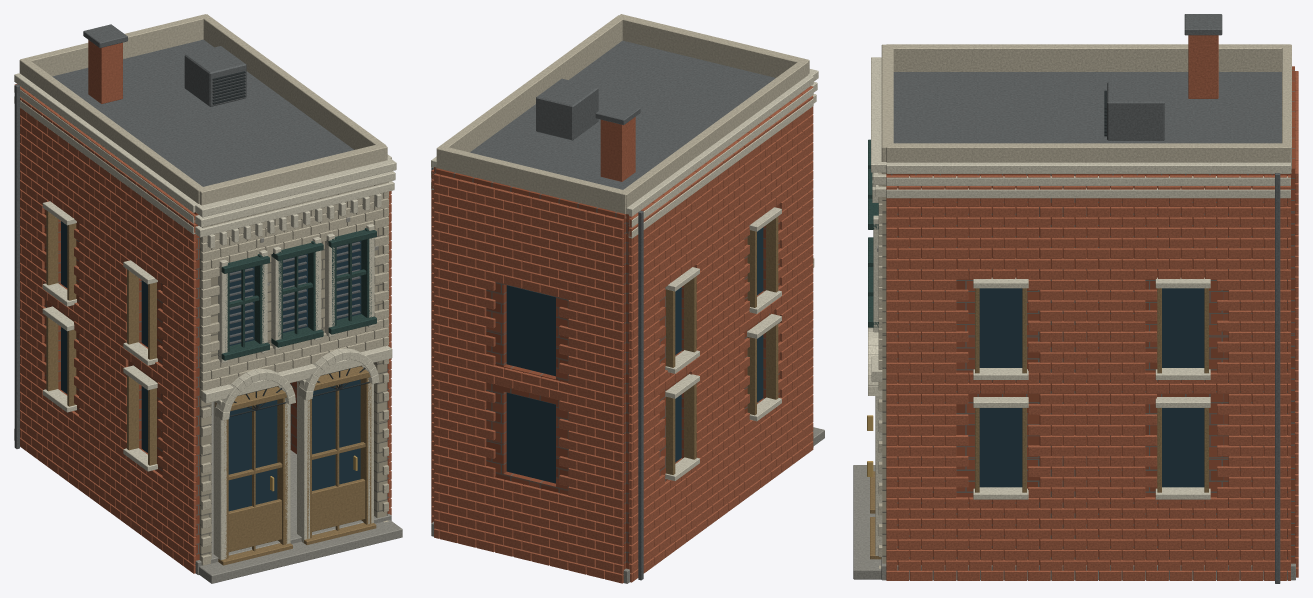
Rendered from CLSTGA15_lod0.glb.
The picture shows the model from 3 angles, left to right: view 1: azimuth 30°, elevation 25°; view 2: azimuth 150°, elevation 25°; view 3: azimuth 270°, elevation 25°; orthographic projection. The views are drawn at different scales.
Visible parts, largest first — view 1: CLSTGA15_LOD0; view 2: CLSTGA15_LOD0; view 3: CLSTGA15_LOD0.
Boxes of the visible parts, x1=… form: CLSTGA15_LOD0: x1=14, y1=14, x2=402, y2=583; CLSTGA15_LOD0: x1=431, y1=14, x2=824, y2=583; CLSTGA15_LOD0: x1=853, y1=14, x2=1298, y2=583.
Bounding box in the file's own units: 4.11 × 7.85 × 6.6.
Materials: 17 (14 with a texture image).
